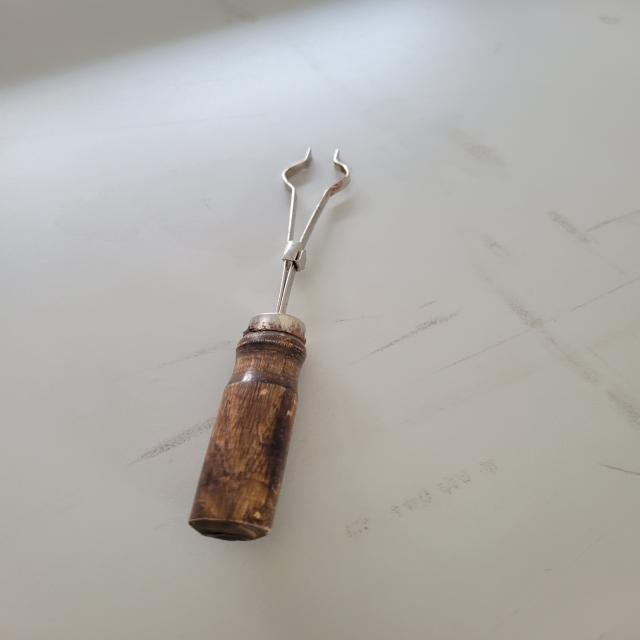TestTube_Holder: (157, 115, 379, 570)
